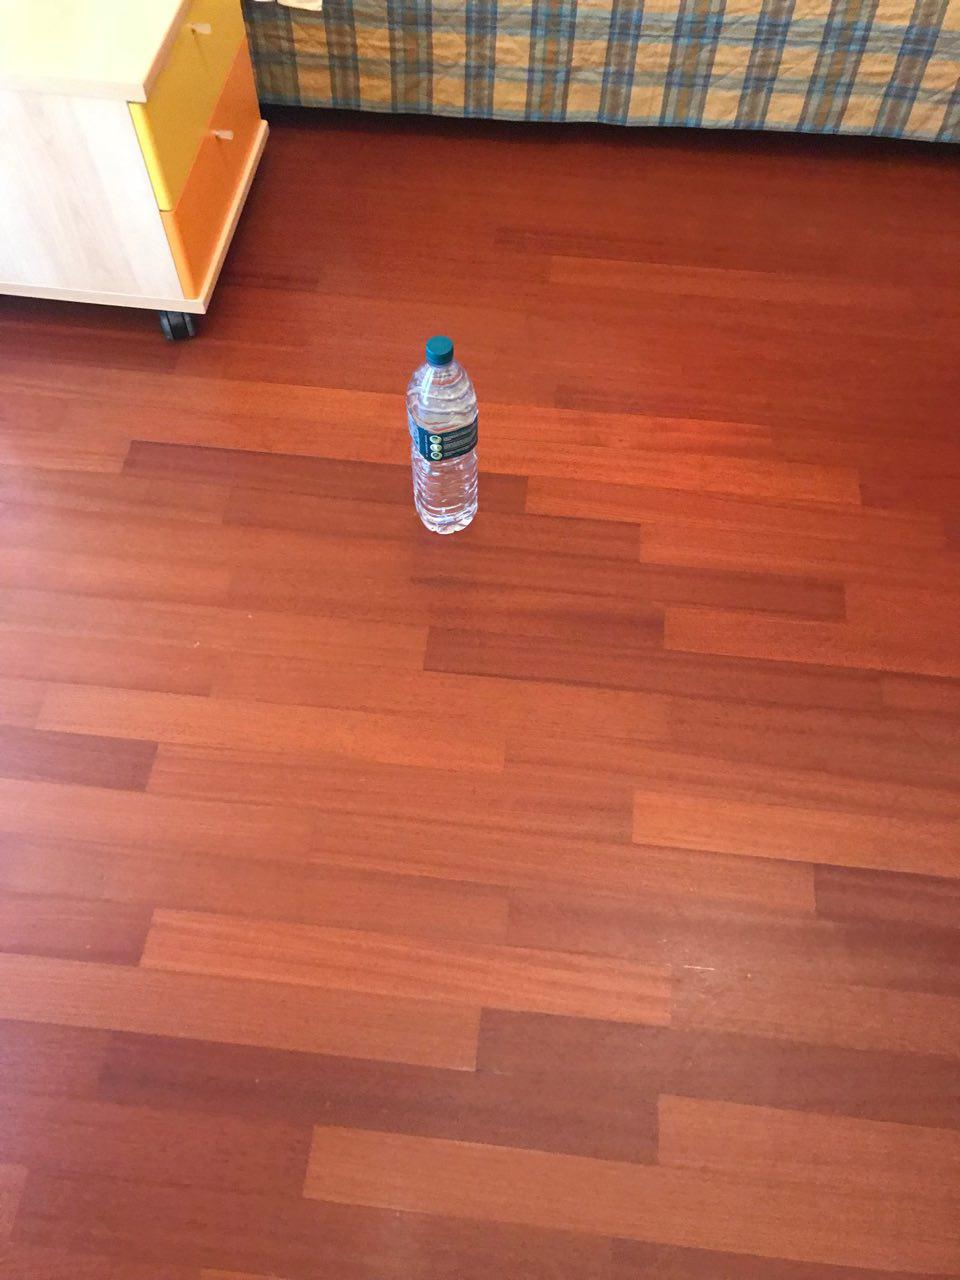san_bernardo: (404, 334, 479, 536)
